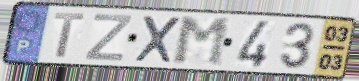3: (276, 21, 317, 71)
4: (233, 19, 274, 70)
M: (172, 16, 231, 68)
T: (52, 12, 88, 60)
X: (132, 14, 184, 66)
Z: (82, 12, 135, 63)
